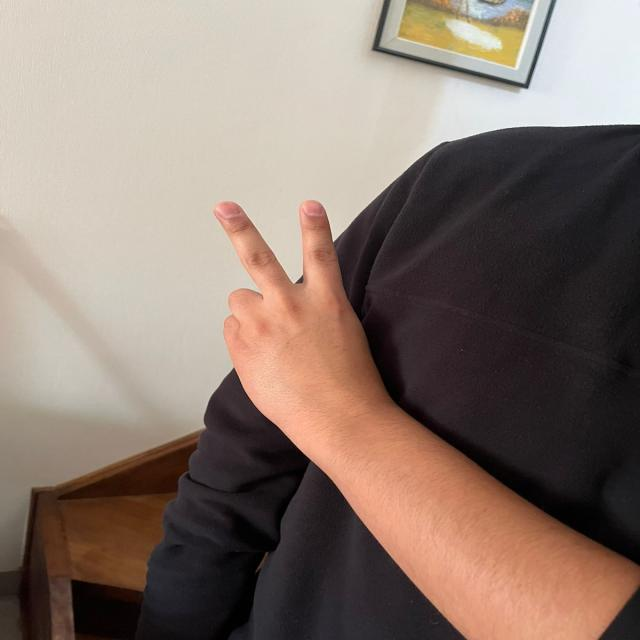V: (203, 191, 368, 423)
